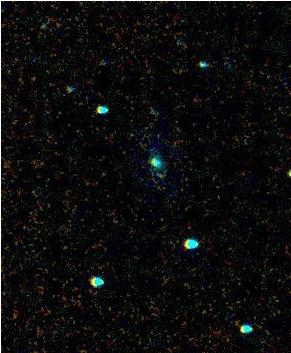star: (145, 161, 175, 191)
